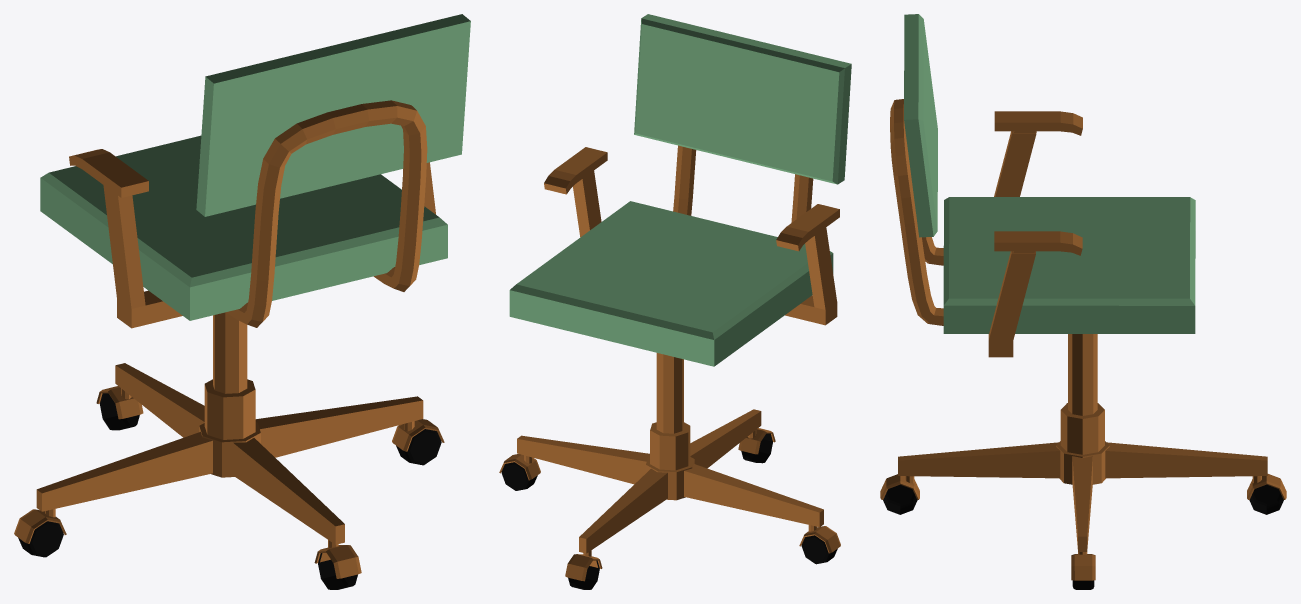
Rendered from Office Chair 1.fbx.
The picture shows the model from 3 angles, left to right: view 1: azimuth 30°, elevation 25°; view 2: azimuth 150°, elevation 25°; view 3: azimuth 270°, elevation 25°; orthographic projection. The views are drawn at different scales.
Parts seen in each view (by area): view 1: Node 1, Node 0, Node 3, Node 5, Node 4, Node 2; view 2: Node 1, Node 0, Node 3, Node 5, Node 2, Node 4; view 3: Node 1, Node 0, Node 2, Node 4, Node 5.
Part boxes in pixels (x1,y1,x2,y2): Node 1: (40, 14, 470, 328); Node 0: (36, 312, 423, 544); Node 3: (14, 509, 66, 557); Node 5: (392, 419, 444, 465); Node 4: (314, 540, 361, 589); Node 2: (96, 386, 143, 430); Node 1: (509, 14, 851, 366); Node 0: (517, 353, 823, 553); Node 3: (799, 525, 840, 564); Node 5: (499, 454, 540, 490); Node 2: (565, 550, 602, 589); Node 4: (738, 428, 775, 463); Node 1: (890, 14, 1195, 357); Node 0: (898, 334, 1267, 551); Node 2: (1247, 474, 1286, 514); Node 4: (880, 474, 919, 514); Node 5: (1071, 552, 1095, 589).
Size of the model in its own units: 0.8585 by 1.05 by 0.8585.
